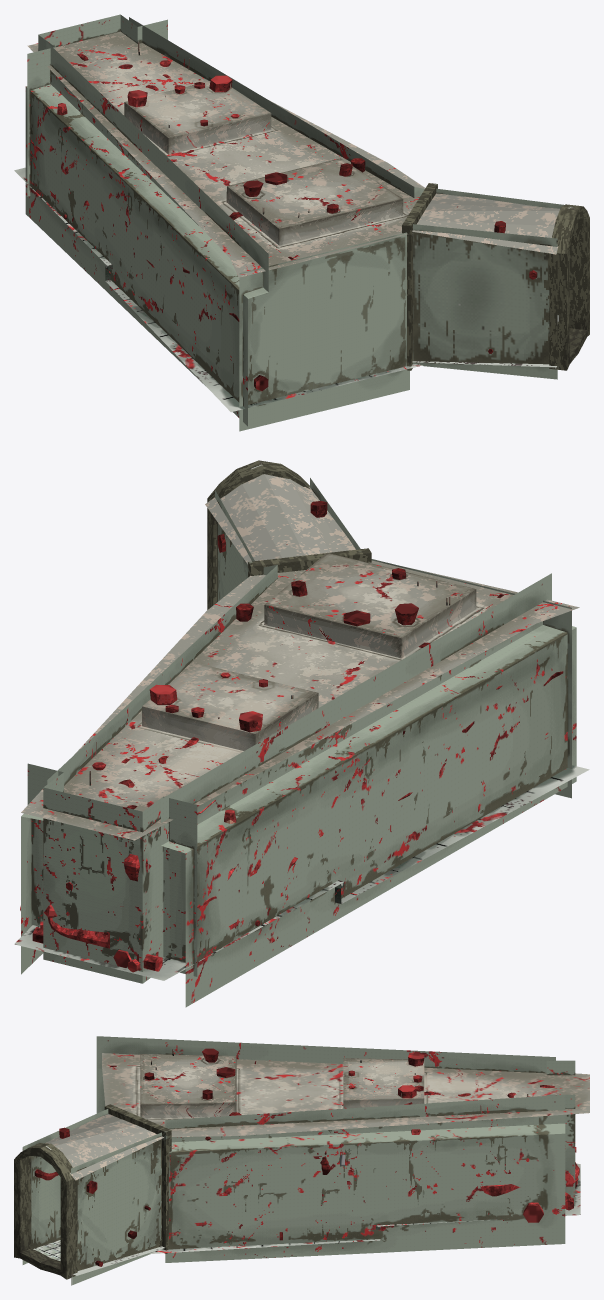
The model's file is HHBATH_ALTFINAL.fbx.
The picture shows the model from 3 angles, top to bottom: view 1: azimuth 30°, elevation 25°; view 2: azimuth 150°, elevation 25°; view 3: azimuth 270°, elevation 25°; orthographic projection. The views are drawn at different scales.
Parts seen in each view (by area): view 1: LeftWall, Ceiling, Hallway, Frontwall, RightWall, BackWall, Floor, AltLargepipes, AltSmallPipes; view 2: LeftWall, Ceiling, BackWall, Hallway, RightWall, Floor, AltLargepipes, AltSmallPipes, Frontwall; view 3: RightWall, Ceiling, Hallway, LeftWall, AltLargepipes, BackWall, AltSmallPipes, Floor.
Boxes of the visible parts, x1=… form: LeftWall: x1=25, y1=42, x2=268, y2=426; Ceiling: x1=27, y1=31, x2=425, y2=277; Hallway: x1=402, y1=183, x2=589, y2=379; Frontwall: x1=239, y1=232, x2=409, y2=431; RightWall: x1=129, y1=17, x2=424, y2=197; BackWall: x1=27, y1=14, x2=167, y2=196; Floor: x1=14, y1=167, x2=422, y2=412; AltLargepipes: x1=49, y1=75, x2=505, y2=391; AltSmallPipes: x1=31, y1=53, x2=537, y2=353; LeftWall: x1=161, y1=573, x2=576, y2=1007; Ceiling: x1=21, y1=552, x2=579, y2=840; BackWall: x1=27, y1=763, x2=197, y2=983; Hallway: x1=205, y1=460, x2=371, y2=609; RightWall: x1=21, y1=564, x2=277, y2=974; Floor: x1=14, y1=765, x2=589, y2=980; AltLargepipes: x1=20, y1=501, x2=503, y2=972; AltSmallPipes: x1=32, y1=534, x2=563, y2=971; Frontwall: x1=371, y1=559, x2=571, y2=798; RightWall: x1=165, y1=1094, x2=565, y2=1262; Ceiling: x1=102, y1=1053, x2=589, y2=1136; Hallway: x1=14, y1=1104, x2=171, y2=1285; LeftWall: x1=96, y1=1036, x2=555, y2=1113; AltLargepipes: x1=59, y1=1048, x2=579, y2=1240; BackWall: x1=546, y1=1060, x2=575, y2=1206; AltSmallPipes: x1=34, y1=1072, x2=576, y2=1266; Floor: x1=149, y1=1163, x2=580, y2=1253.
Bounding box in the file's own units: 41.06 × 21.42 × 72.08.
13 materials, 13 textured.
